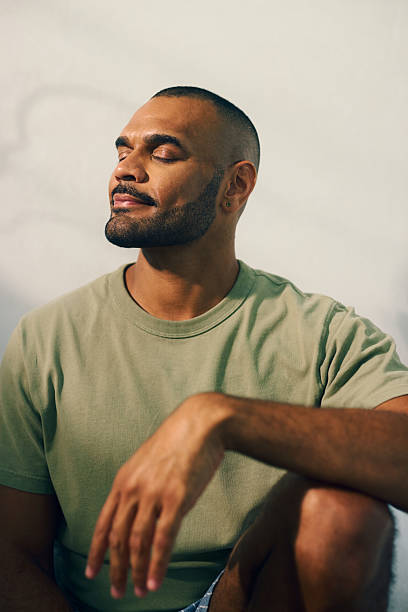Male: (5, 60, 408, 612)
